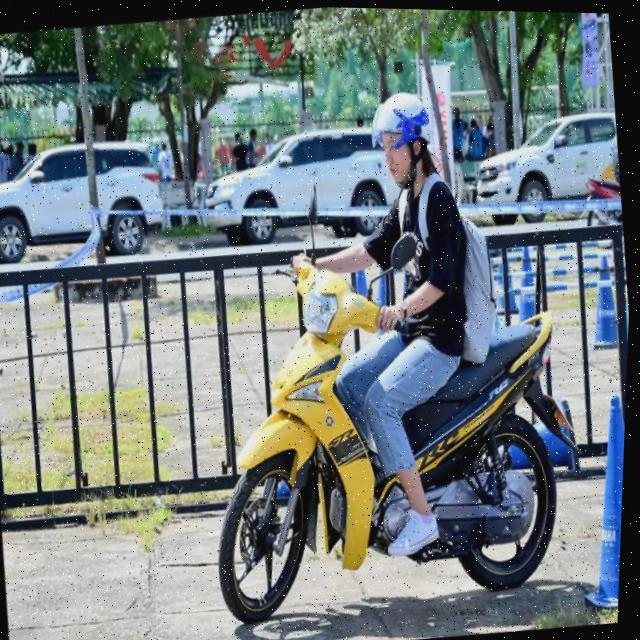car: (186, 115, 411, 269), (0, 126, 201, 285), (465, 101, 626, 231)
motorcycle: (177, 206, 609, 640)
